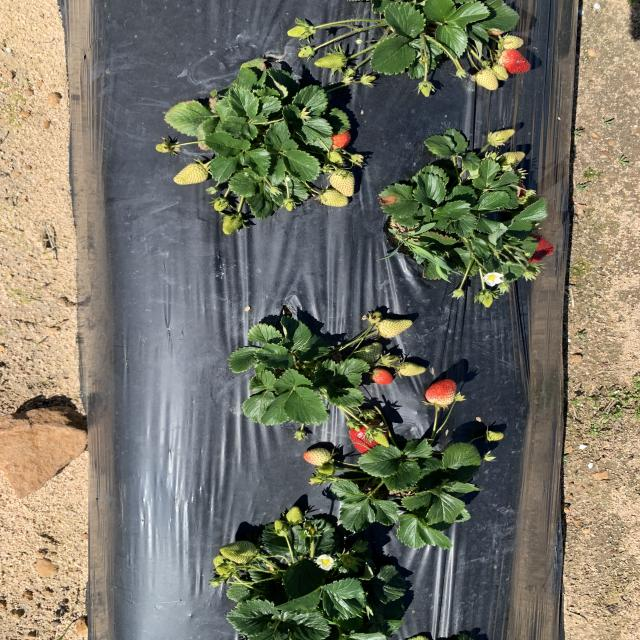unripe: (506, 231, 559, 264), (345, 421, 390, 455), (491, 46, 533, 74), (319, 124, 352, 149), (426, 380, 458, 404), (503, 177, 532, 202), (369, 368, 394, 385)
